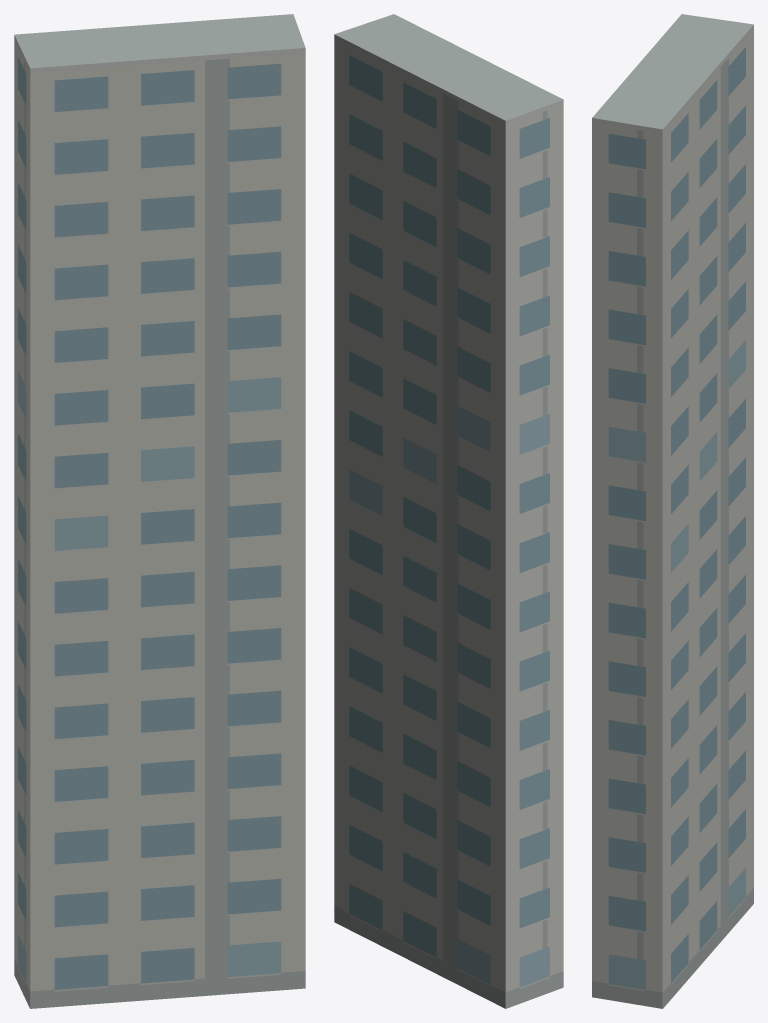
Rendered from survey-upis-32948052.glb.
The picture shows the model from 3 angles, left to right: view 1: azimuth 30°, elevation 25°; view 2: azimuth 150°, elevation 25°; view 3: azimuth 270°, elevation 25°; orthographic projection. The views are drawn at different scales.
Visible parts, largest first — view 1: survey-upis-32948052.tmp; view 2: survey-upis-32948052.tmp; view 3: survey-upis-32948052.tmp.
Boxes of the visible parts, left/top/right/bottom form: survey-upis-32948052.tmp: left=14, top=14, right=305, bottom=1008; survey-upis-32948052.tmp: left=334, top=14, right=563, bottom=1008; survey-upis-32948052.tmp: left=592, top=14, right=753, bottom=1008.
Bounding box in the file's own units: 12.89 × 45.75 × 7.64.
